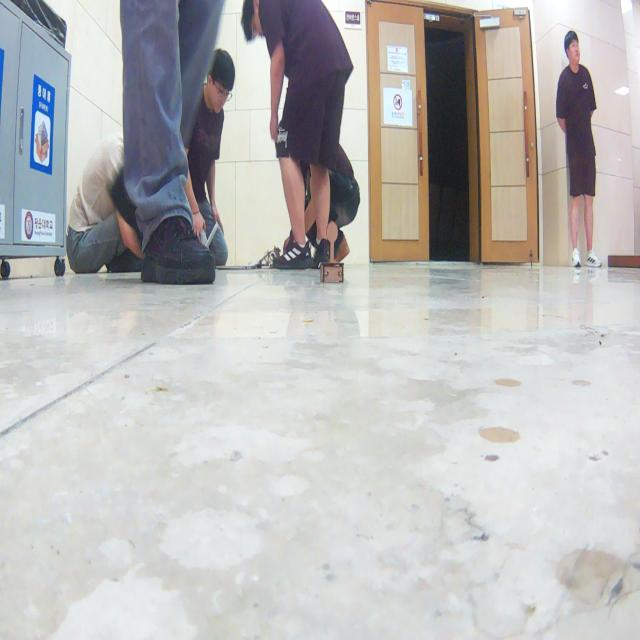target: (320, 220, 344, 284)
